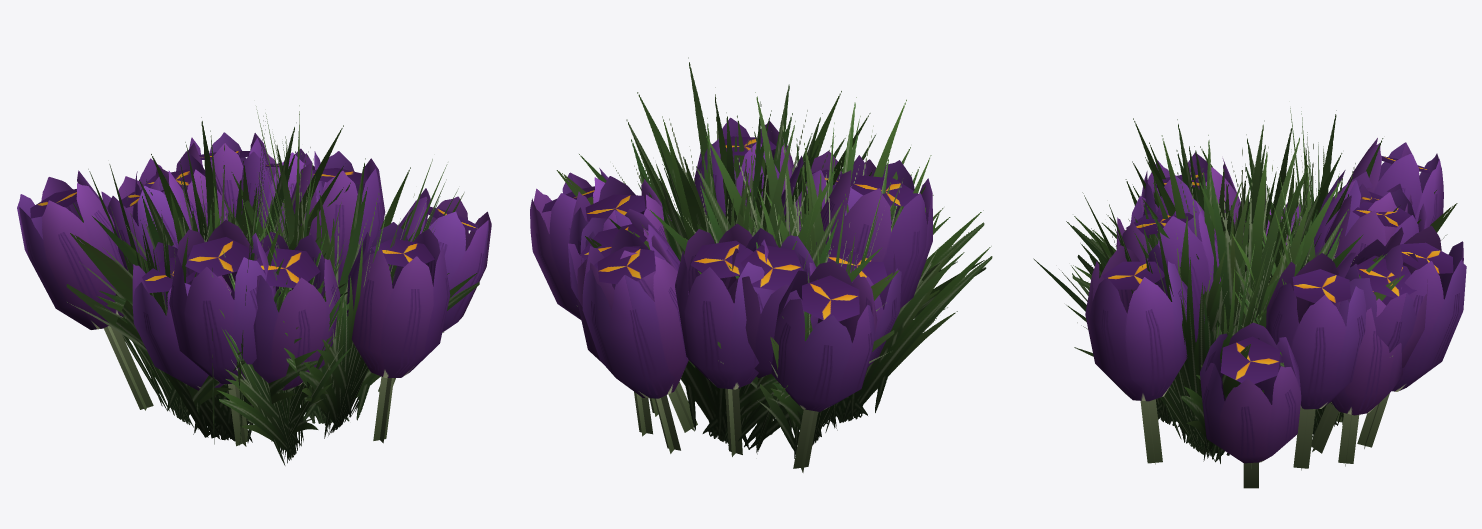
The model's file is mm6_deco_flower07.glb.
3 renders of one model, left to right at view 1: azimuth 30°, elevation 25°; view 2: azimuth 150°, elevation 25°; view 3: azimuth 270°, elevation 25°, orthographic. The views are drawn at different scales.
Visible parts, largest first — view 1: Plant; view 2: Plant; view 3: Plant.
Part boxes in pixels (box(x1,y1,x2,y2)): Plant: box(17, 105, 491, 465); Plant: box(530, 57, 992, 472); Plant: box(1033, 108, 1466, 488).
Bounding box in the file's own units: 0.2383 × 0.1974 × 0.2305.
1 material, 1 textured.
